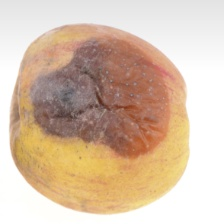apple: (29, 17, 220, 196)
